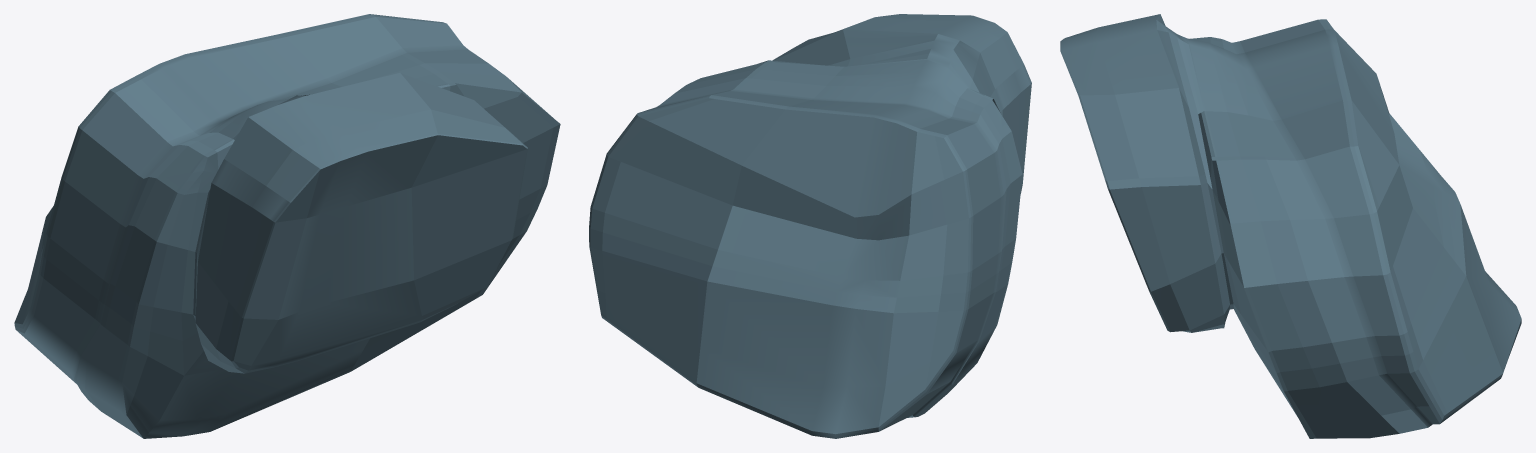
The model's file is ROCKS_ROUND_D_UI.fbx.
3 views of the same model, side by side, from view 1: azimuth 30°, elevation 25°; view 2: azimuth 150°, elevation 25°; view 3: azimuth 270°, elevation 25° (orthographic). The views are drawn at different scales.
Visible parts, largest first — view 1: ROCKSROUNDD_UI; view 2: ROCKSROUNDD_UI; view 3: ROCKSROUNDD_UI.
Boxes of the visible parts, x1,y1,x2,y2 form: ROCKSROUNDD_UI: (14, 14, 560, 438); ROCKSROUNDD_UI: (589, 14, 1031, 438); ROCKSROUNDD_UI: (1060, 14, 1521, 438).
Bounding box in the file's own units: 5.95 × 4.83 × 5.8.
